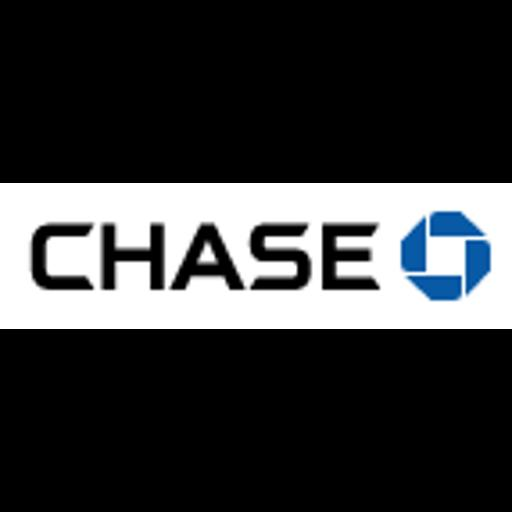Chase Personal Banking: (0, 183, 512, 329)
